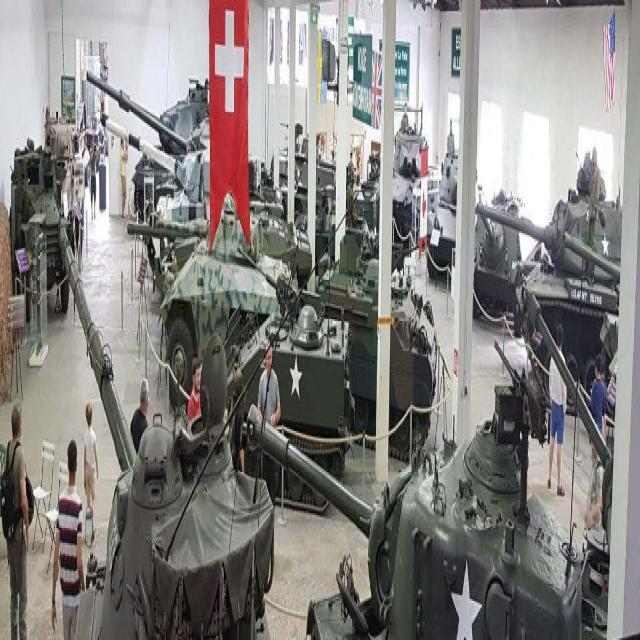Tanks: (363, 469, 590, 628), (322, 267, 435, 448), (526, 135, 612, 348), (140, 90, 218, 177)
